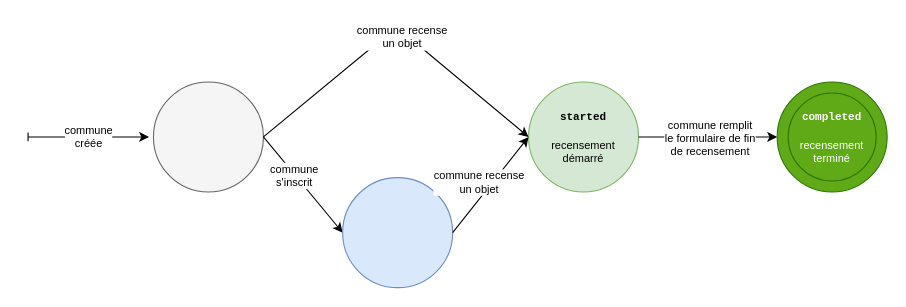
This 906x307 diagram has some shape labels left out. The shapes that lost their labels are listed below. From the top down, each one's centre as x and y in pixels, then its label:
At (x=207, y=136): "inactive".
At (x=397, y=232): "enrolled communes inscrites".
